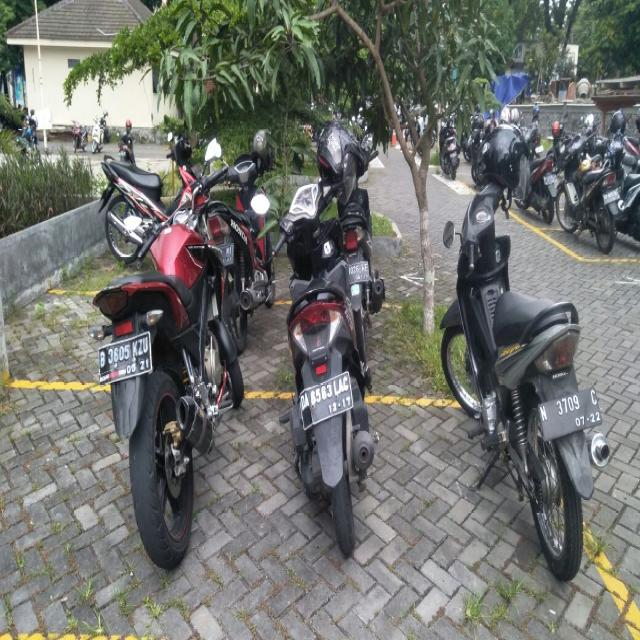plate: (538, 387, 604, 439), (298, 371, 353, 421), (97, 332, 153, 376)
